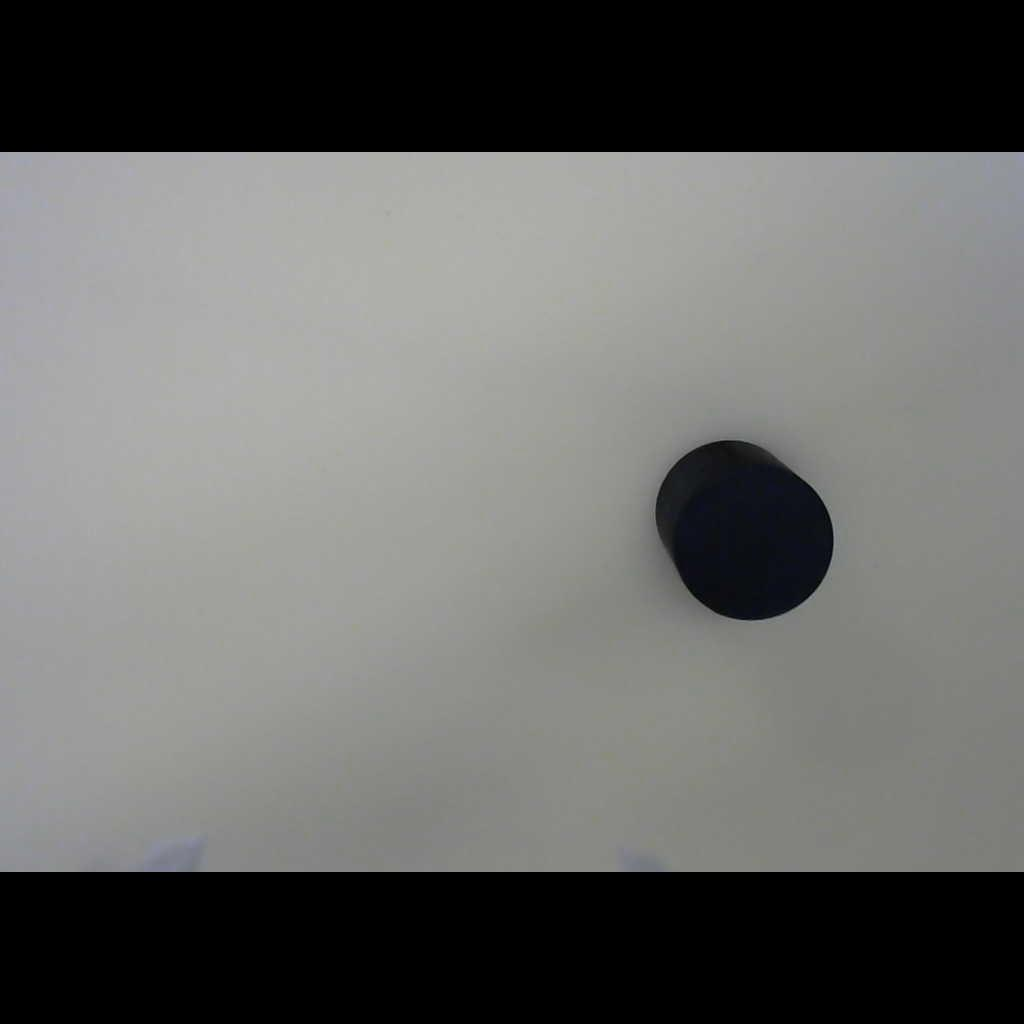circle: (636, 426, 851, 631)
